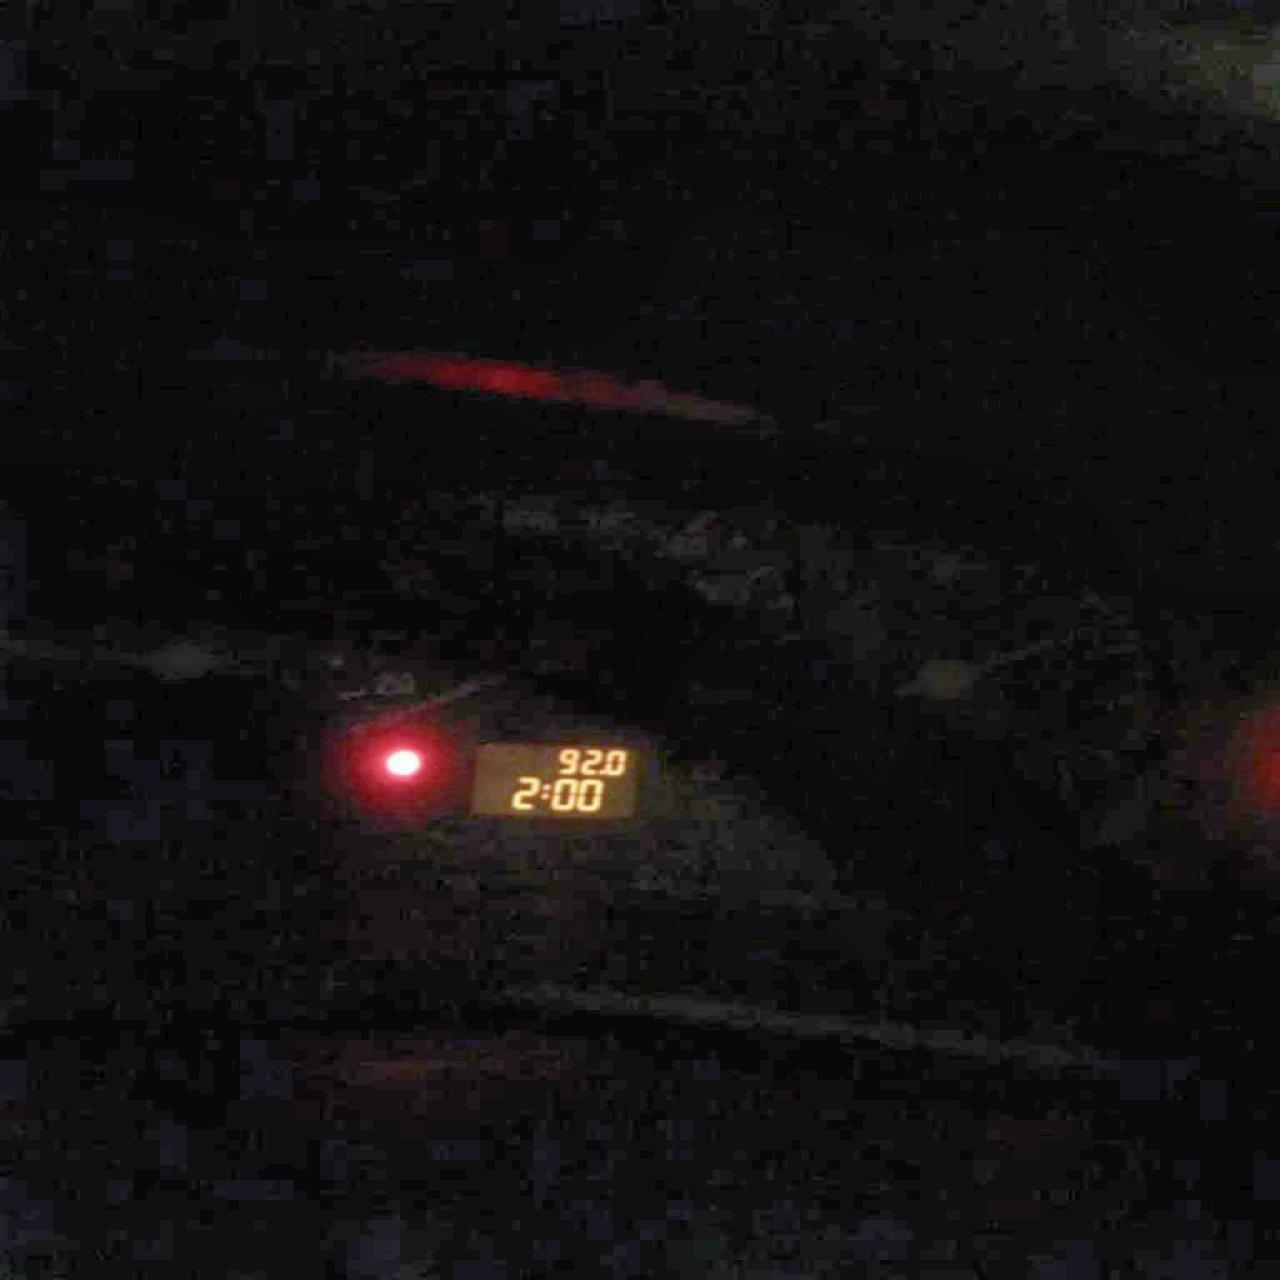-: (597, 768, 605, 776)
0: (550, 775, 576, 811), (577, 777, 604, 811), (605, 745, 627, 775)
2: (509, 772, 539, 812), (580, 745, 601, 775)
9: (554, 745, 578, 775)
X: (540, 779, 550, 801)
odometer: (458, 735, 644, 821)
